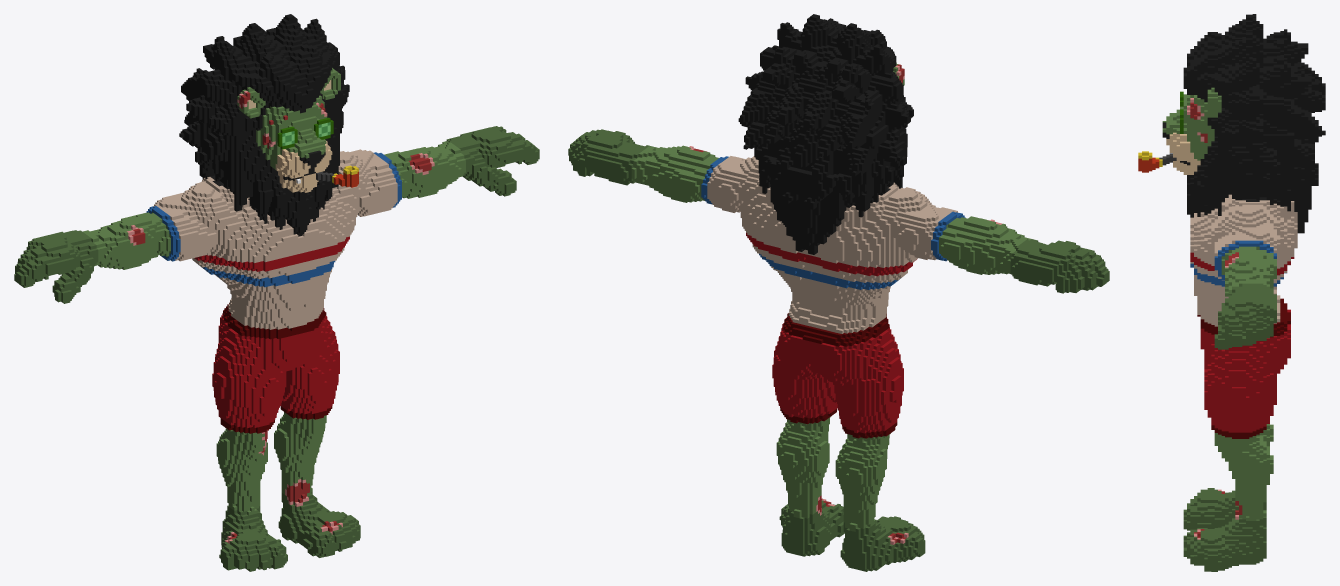
Rendered from 477-VxL0_vhb.glb.
3 views of the same model, side by side, from view 1: azimuth 30°, elevation 25°; view 2: azimuth 150°, elevation 25°; view 3: azimuth 270°, elevation 25° (orthographic). The views are drawn at different scales.
Visible parts, largest first — view 1: pipe; view 2: pipe; view 3: pipe.
Boxes of the visible parts, bbox=[...] form: pipe: bbox=[14, 14, 539, 571]; pipe: bbox=[568, 14, 1109, 571]; pipe: bbox=[1138, 14, 1325, 571].
Size of the model in its own units: 17.2 by 16.5 by 5.4.
Materials: 5 (5 with a texture image).
